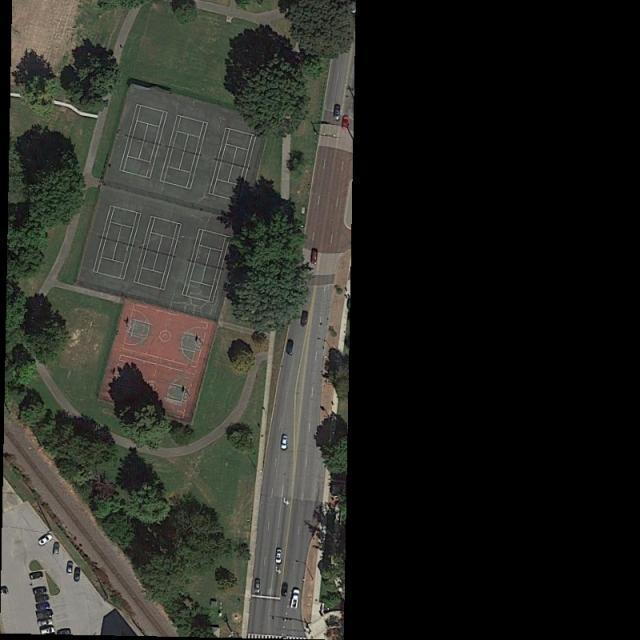vehicle: (290, 589, 302, 610), (37, 533, 54, 547), (37, 610, 54, 622), (284, 337, 295, 355), (332, 102, 342, 120), (38, 618, 54, 628), (35, 602, 51, 611), (310, 248, 318, 266), (51, 542, 61, 556), (36, 594, 50, 604), (30, 571, 43, 581), (342, 114, 350, 130), (275, 548, 283, 564), (40, 626, 56, 634), (56, 627, 72, 635), (34, 586, 48, 595), (302, 310, 309, 328), (66, 561, 74, 576), (74, 566, 81, 582), (254, 578, 261, 594), (281, 434, 288, 450), (282, 582, 289, 597)
